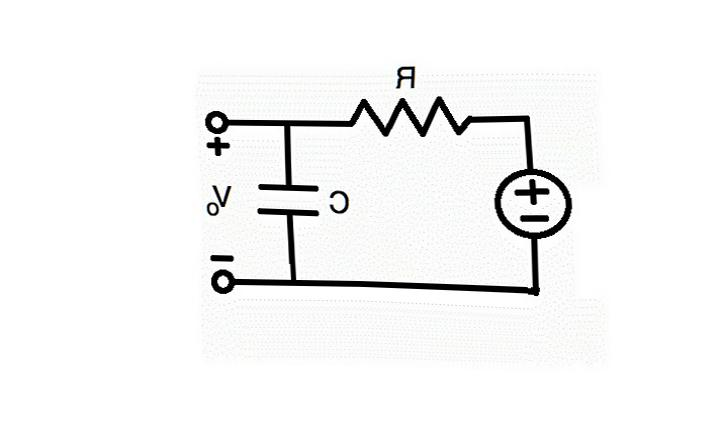Battery: (468, 157, 591, 254)
